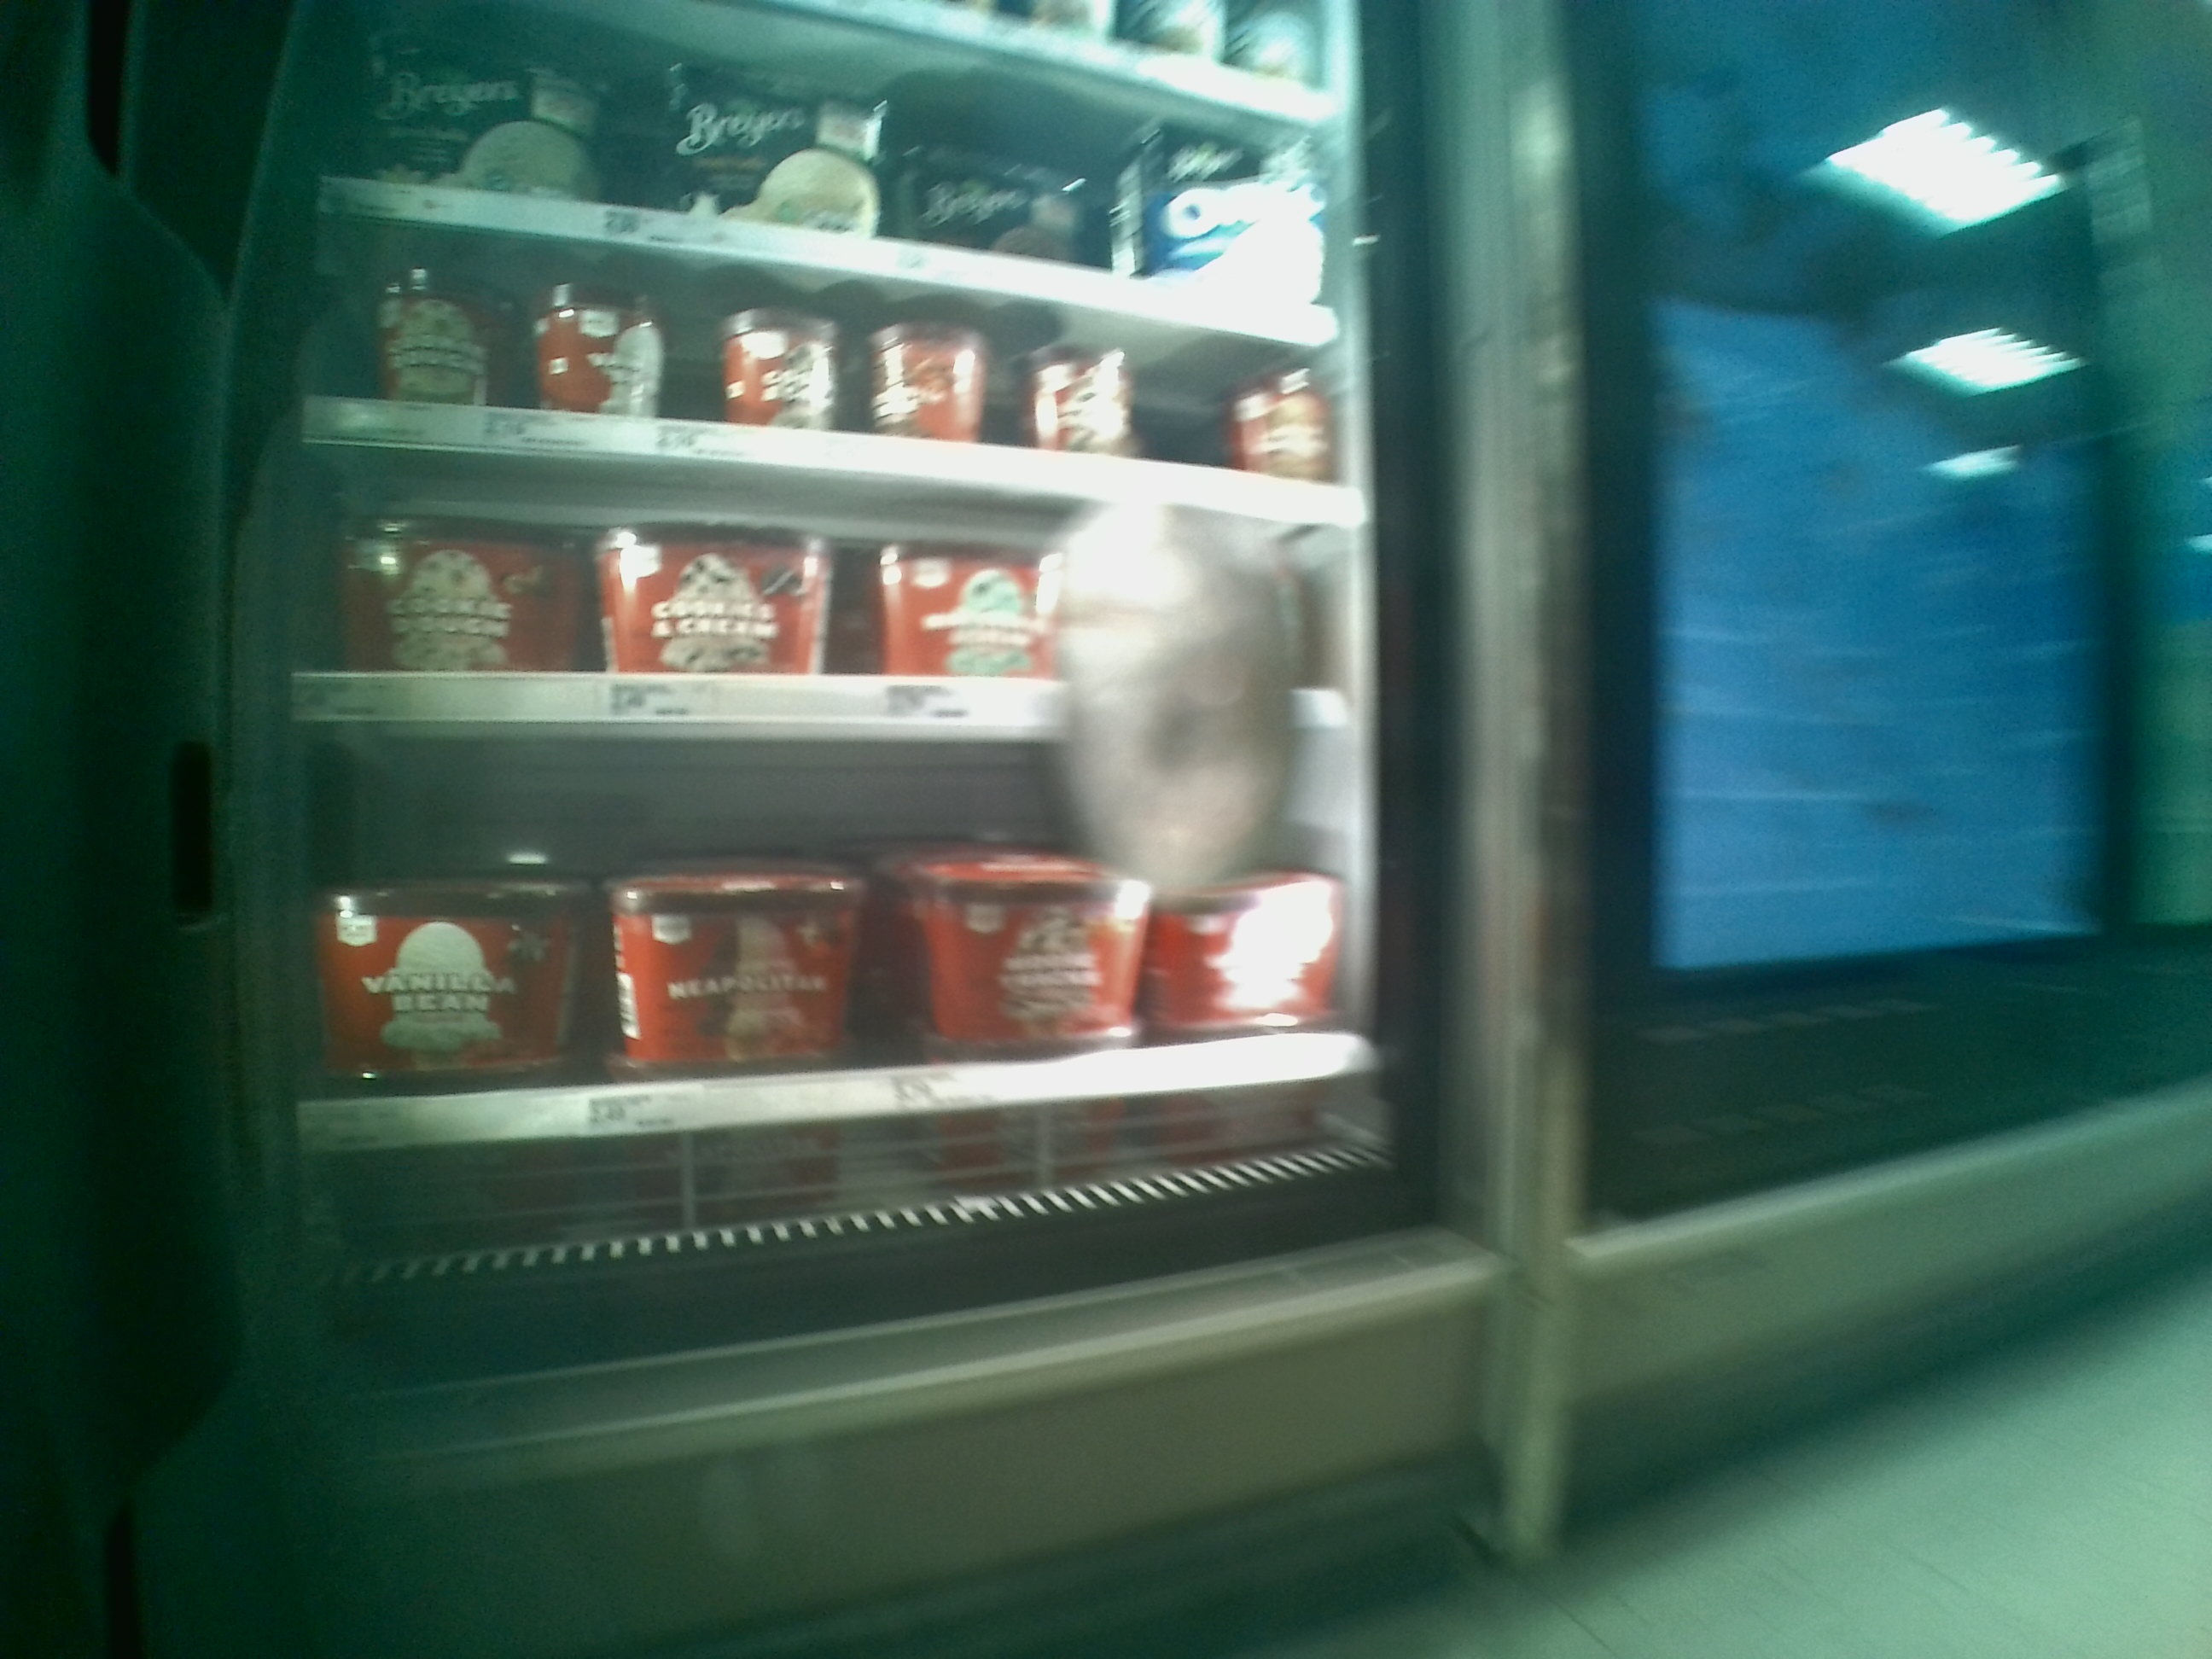shelf: (307, 199, 1362, 528)
